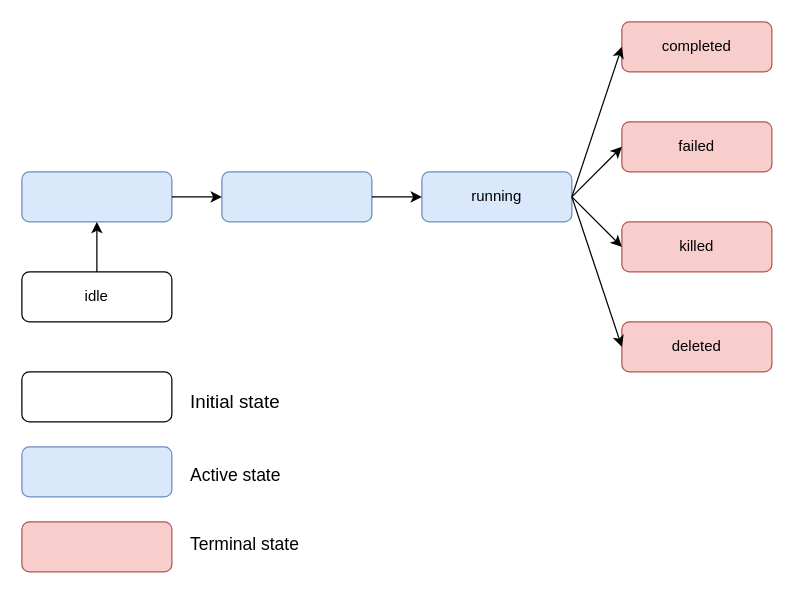
The diagram is 794 pixels wide and 594 high, and some of its shapes have lost their labels. The shapes that lost their labels are listed below. From the top down, each one's box as (x1, y1, x2, y2) in pixels, then its label:
(21, 171, 172, 222): deploying
(221, 171, 372, 222): ready
